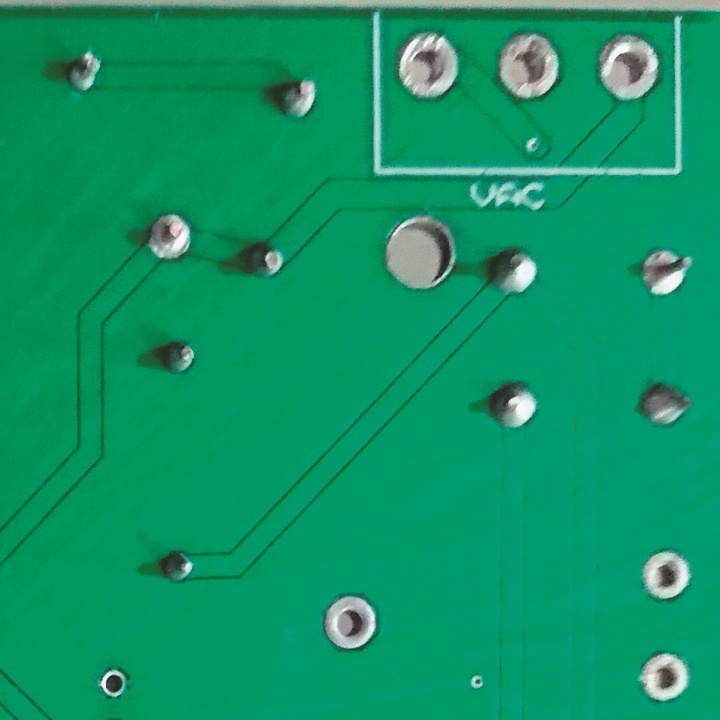F: (493, 29, 567, 103), (392, 29, 460, 102), (593, 29, 661, 102), (322, 591, 380, 655), (638, 245, 696, 300), (639, 546, 692, 603), (635, 649, 691, 701), (148, 208, 192, 269), (96, 663, 136, 700)
